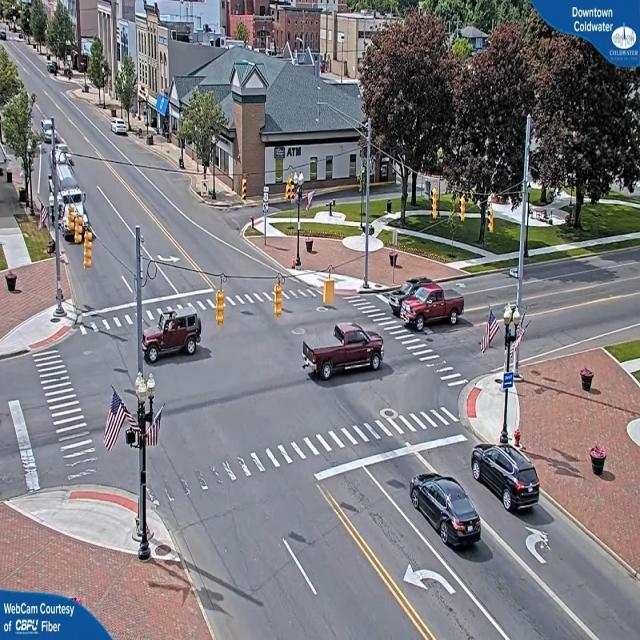car: (301, 319, 386, 384), (409, 477, 482, 552), (471, 444, 541, 514), (143, 305, 202, 363), (405, 288, 462, 329), (387, 280, 408, 317), (112, 121, 130, 138)
truck: (48, 154, 90, 240)
